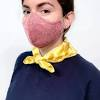cloth_mask: (22, 12, 66, 49)
